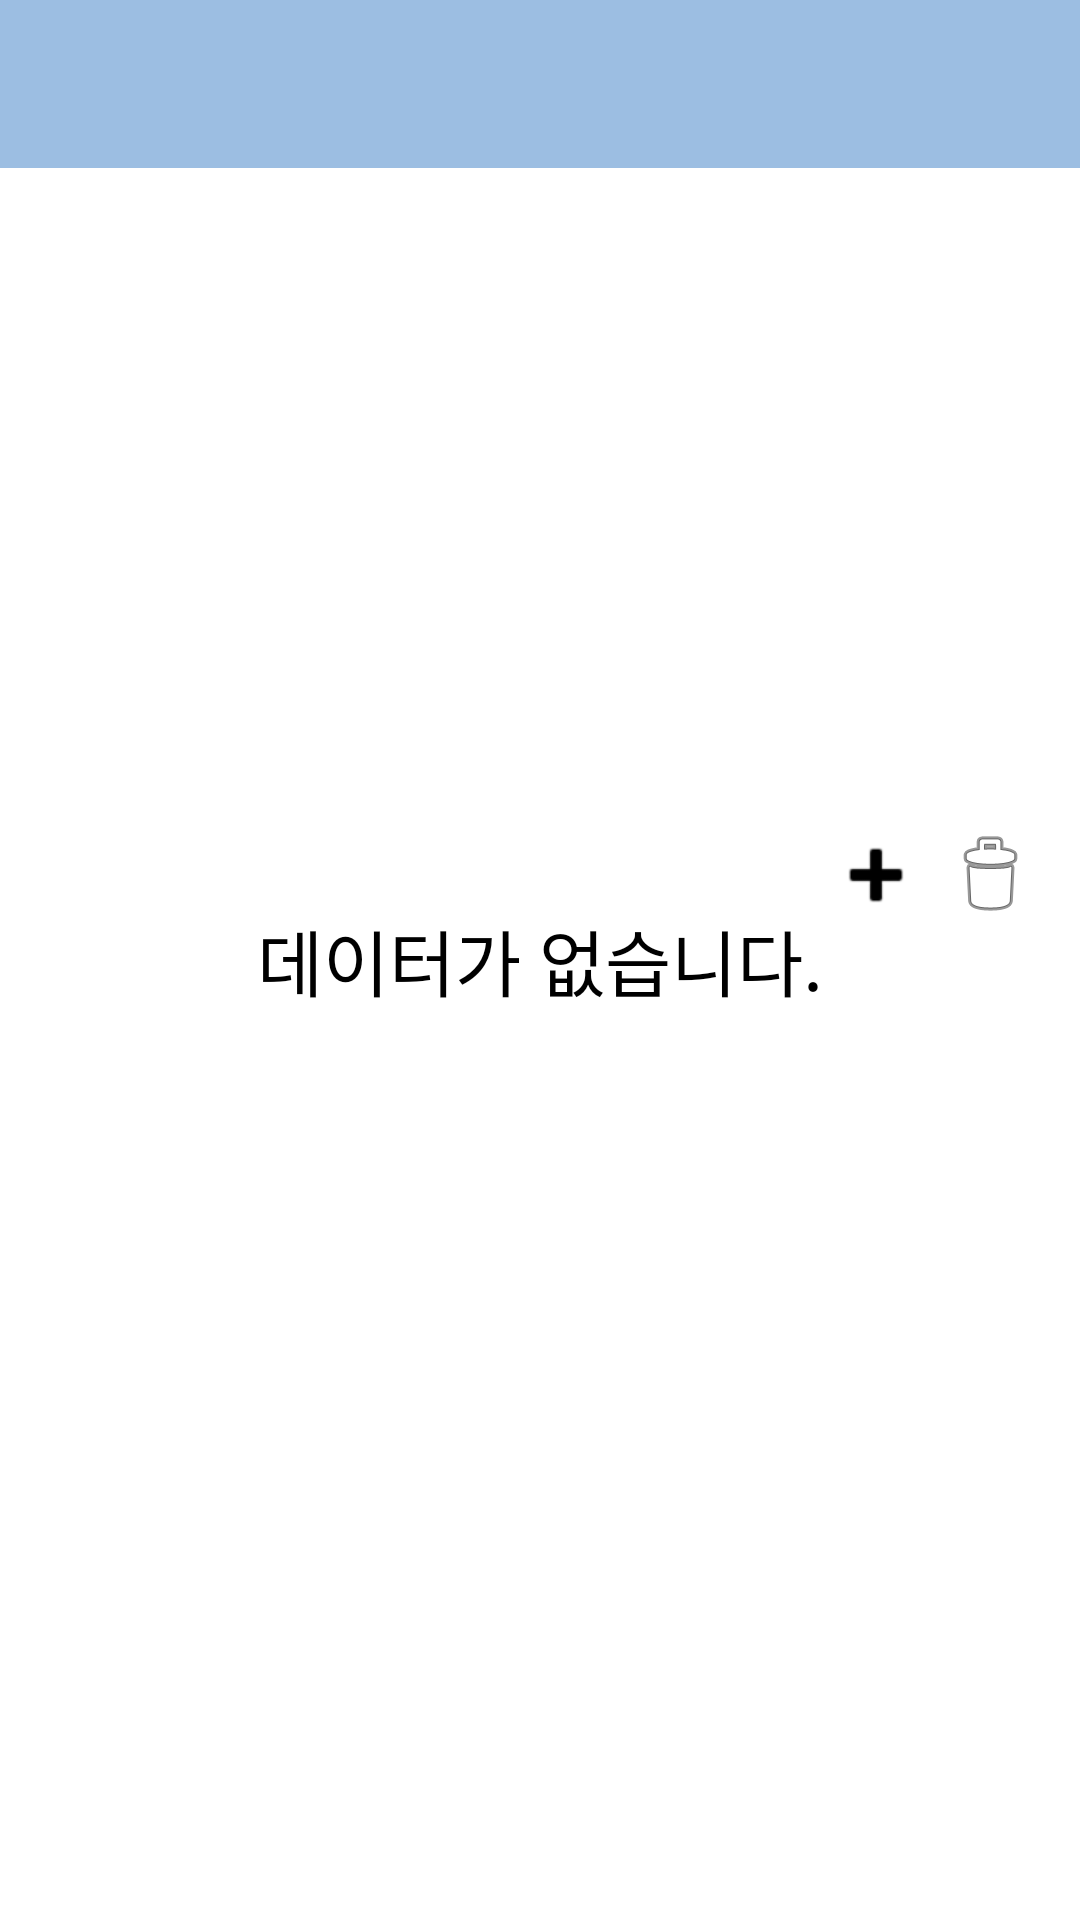

Screen size 1080 x 1920. Icon name, then its box in pixels as bbox(x1, y1, x2, y2):
add: bbox(849, 848, 903, 902)
delete: bbox(963, 836, 1018, 911)
